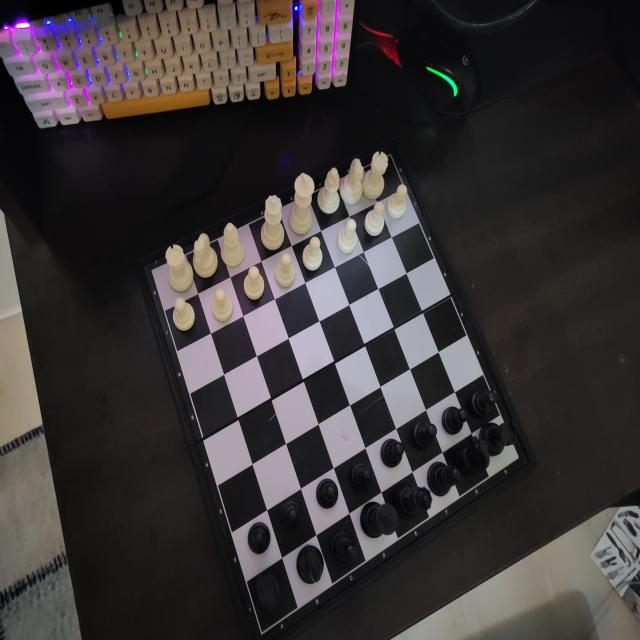black-bishop: (329, 531, 359, 574), (426, 461, 460, 496)
black-king: (360, 500, 401, 542)
black-knight: (456, 436, 491, 478)
black-pawn: (279, 498, 304, 535), (247, 520, 271, 557), (348, 462, 375, 494), (442, 406, 471, 435), (470, 389, 498, 419), (410, 421, 438, 449), (380, 438, 405, 468), (316, 478, 340, 509)
black-queen: (396, 484, 434, 519)
black-rook: (479, 419, 518, 456), (293, 544, 325, 587), (255, 570, 283, 613)
chess-board: (147, 147, 530, 638)
white-bishop: (220, 222, 246, 268), (317, 167, 341, 216)
white-king: (290, 172, 316, 237)
white-knight: (193, 232, 218, 280), (340, 158, 364, 205)
white-pawn: (172, 297, 196, 335), (274, 252, 296, 291), (243, 265, 266, 302), (386, 183, 408, 220), (302, 235, 323, 272), (337, 218, 358, 255), (364, 201, 385, 238), (211, 288, 233, 323)
white-queen: (260, 193, 284, 251)
white-rook: (165, 244, 193, 293), (362, 150, 389, 200)
